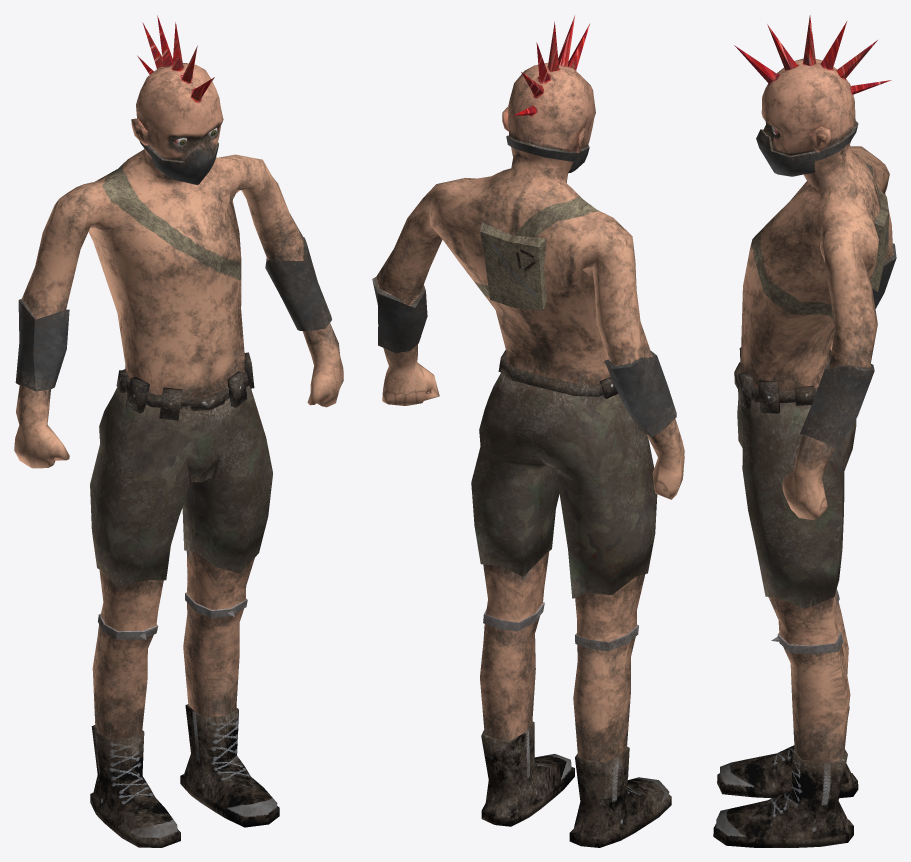
The model's file is Anim_recibirdanyo_1_npc2.0012.obj.
3 views of the same model, side by side, from view 1: azimuth 30°, elevation 25°; view 2: azimuth 150°, elevation 25°; view 3: azimuth 270°, elevation 25° (orthographic). The views are drawn at different scales.
Parts seen in each view (by area): view 1: polySurface1; view 2: polySurface1; view 3: polySurface1.
Part boxes in pixels (bbox=[...]): polySurface1: bbox=[14, 15, 343, 847]; polySurface1: bbox=[372, 15, 684, 847]; polySurface1: bbox=[713, 15, 896, 847].
Bounding box in the file's own units: 4.2 × 10.11 × 2.09.
